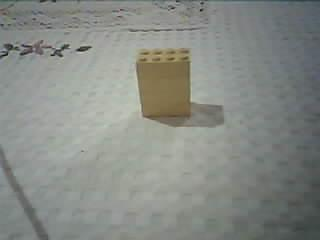lego: (133, 46, 192, 117)
